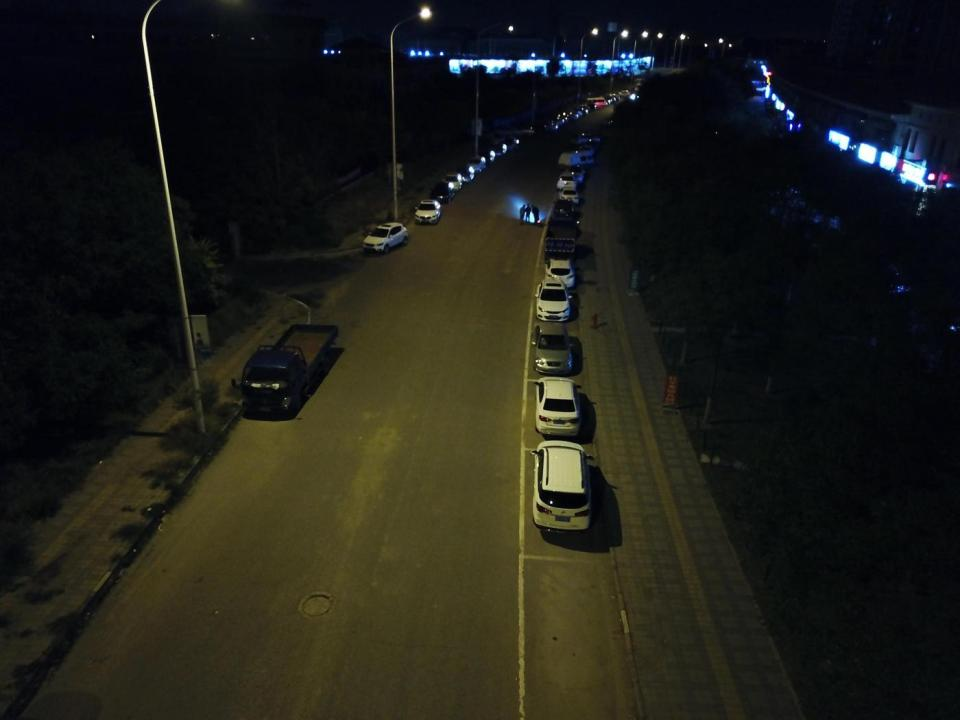car: (528, 438, 594, 538), (531, 376, 584, 437), (528, 319, 579, 373), (536, 276, 572, 322), (361, 221, 410, 253), (540, 256, 578, 288), (411, 197, 443, 226), (430, 182, 457, 204), (552, 197, 576, 217), (456, 164, 477, 184), (443, 172, 465, 191), (512, 122, 538, 138), (531, 117, 559, 131), (571, 133, 600, 146), (469, 154, 487, 173), (500, 136, 520, 153), (494, 126, 524, 137), (539, 114, 565, 126), (603, 115, 626, 128), (479, 148, 496, 165), (524, 122, 548, 134), (547, 113, 569, 125), (554, 109, 575, 121), (581, 139, 597, 154), (562, 108, 580, 121), (568, 103, 589, 114), (574, 101, 597, 111), (493, 142, 508, 156), (560, 108, 584, 116), (618, 89, 631, 96)
truck: (231, 322, 342, 418), (543, 211, 578, 255), (566, 162, 589, 184), (558, 184, 580, 204), (556, 171, 576, 190)
van: (556, 149, 595, 171), (582, 97, 606, 109)
